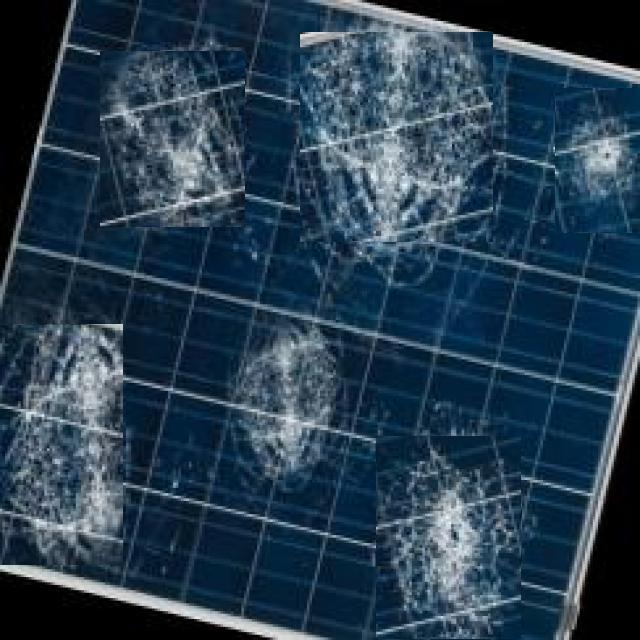Physical-damage: (300, 32, 493, 242), (0, 324, 123, 565), (376, 436, 521, 639), (100, 51, 245, 227), (241, 327, 343, 491), (555, 88, 640, 233)
